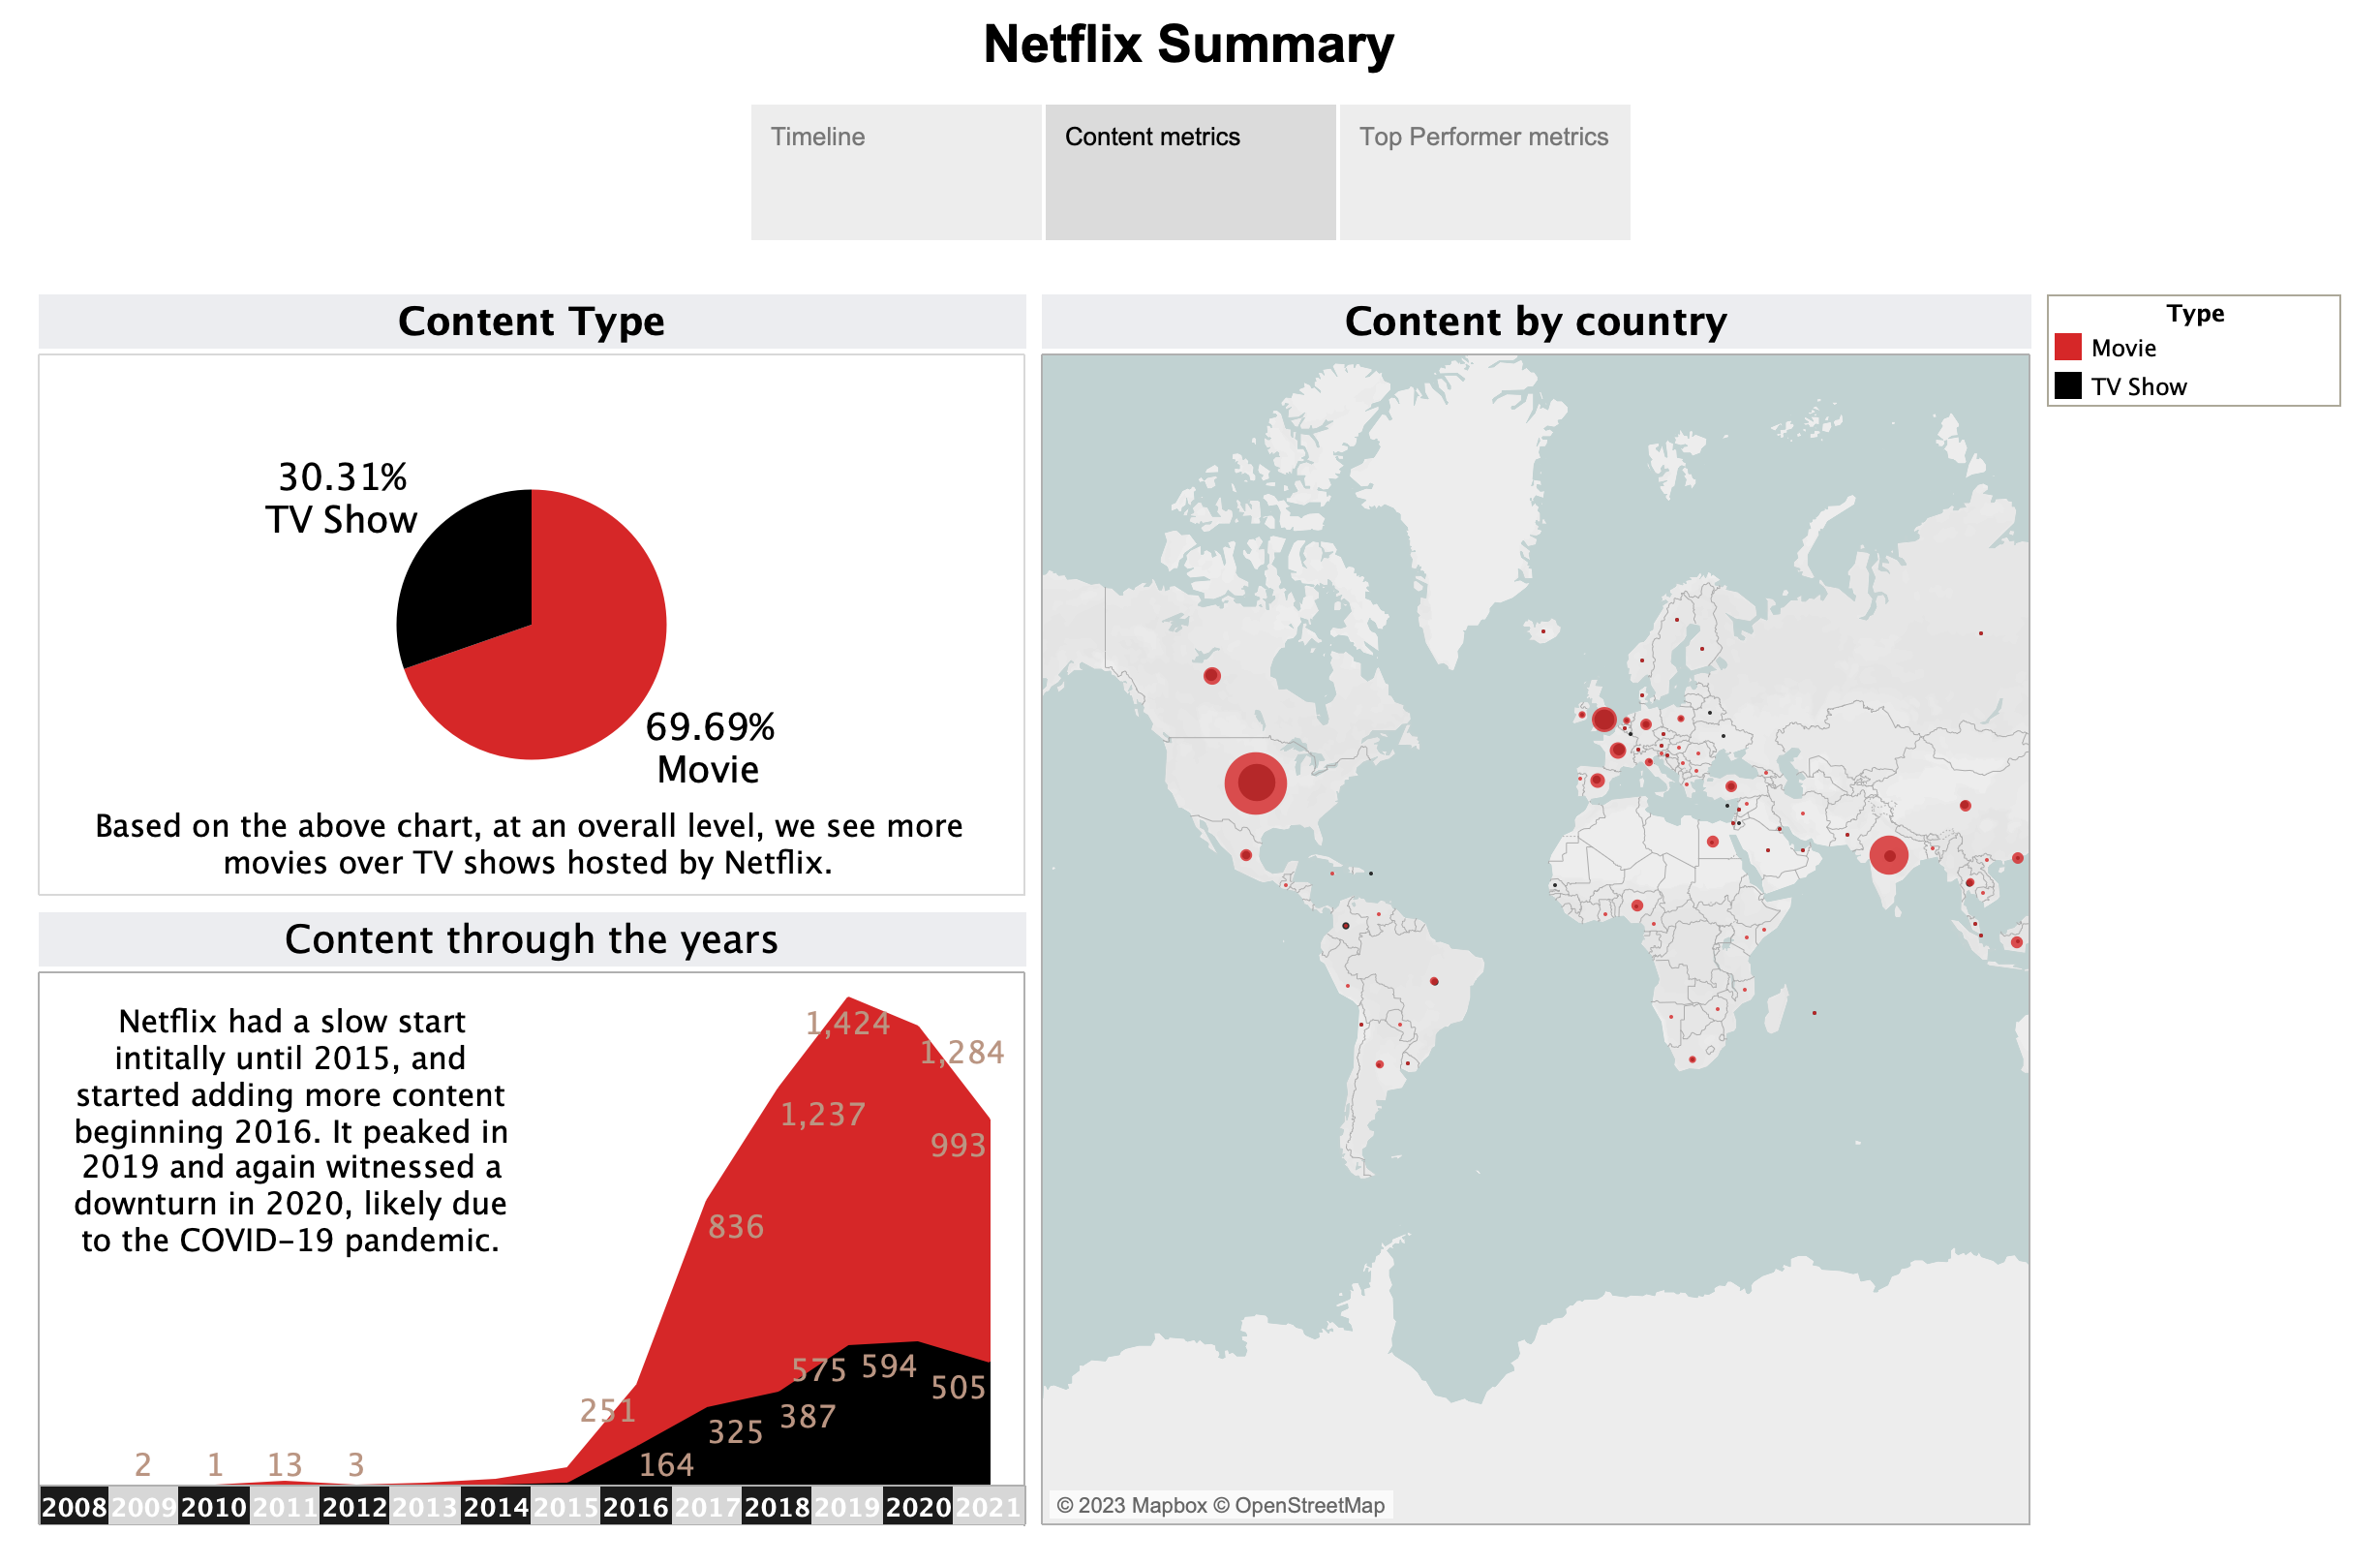

This screenshot's page, from the dashboard's own definition file:
{"tool":"tableau","page":{"name":"Content Dashboard","canvas":[1000,1000],"units":"permille","ordinal":0},"visuals":[{"type":"worksheet","box":[0,0,1000,1000]},{"type":"worksheet","param":"horz","box":[6.5,9.9,987,980.2]},{"type":"worksheet","param":"horz","box":[6.5,9.9,856.8,980.2]},{"type":"worksheet","param":"horz","box":[6.5,9.9,856.8,980.2]},{"type":"worksheet","box":[6.5,9.9,856.8,980.2]},{"type":"worksheet","param":"vert","box":[6.5,9.9,428.4,980.2]},{"type":"worksheet","title":"Content Type","mark":"Pie","box":[6.5,9.9,428.4,394.8]},{"type":"worksheet","title":"Content by country","mark":"Automatic","box":[434.9,9.9,428.4,980.2]},{"type":"worksheet","param":"vert","box":[863.3,9.9,130.2,980.2]},{"type":"worksheet","title":"Content Type","mark":"Pie","param":"[federated.10y1pro1vnfb4914025zj1oiep6p].[none:type:nk]","box":[863.3,9.9,130.2,81.7]},{"type":"worksheet","param":"horz","box":[6.5,404.7,428.4,585.4]},{"type":"worksheet","title":"Content through the years","mark":"Area","rows":["netflix_titles_A87C75B05E384DF6A33B8CF7CB959C5D"],"cols":["date_added"],"box":[6.5,404.7,428.4,585.4]}]}

Visuals, with their boxes on the dashboard's canvas, which has no fixed pixel size, in thousandths of its width and height (x1, y1, x2, y2). These are canvas units, not pixel positions in the 2380x1565 screenshot, which may show the page scaled, cropped or inside an application window:
worksheet: 0, 0, 1000, 1000
worksheet: 6, 10, 994, 990
worksheet: 6, 10, 863, 990
worksheet: 6, 10, 863, 990
worksheet: 6, 10, 863, 990
worksheet: 6, 10, 435, 990
"Content Type" worksheet (Pie marks): 6, 10, 435, 405
"Content by country" worksheet: 435, 10, 863, 990
worksheet: 863, 10, 994, 990
"Content Type" worksheet (Pie marks): 863, 10, 994, 92
worksheet: 6, 405, 435, 990
"Content through the years" worksheet (Area marks): 6, 405, 435, 990
